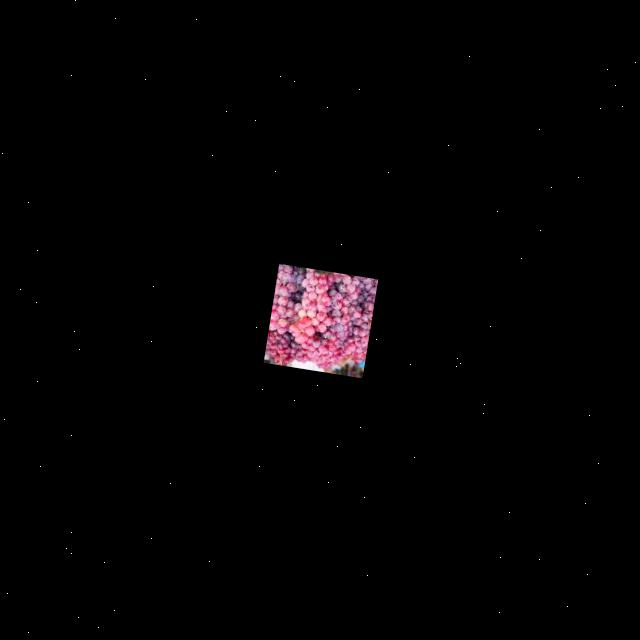grape: (264, 264, 377, 377)
